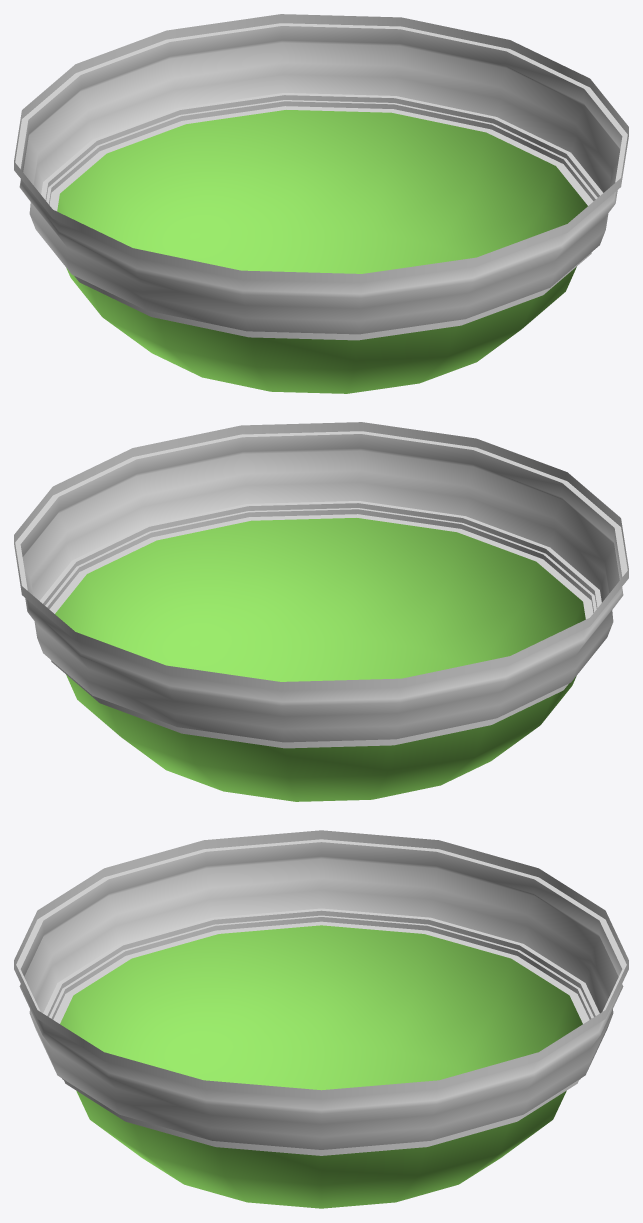
File: InteriorLight05.fbx
3 renders of one model, top to bottom at view 1: azimuth 30°, elevation 25°; view 2: azimuth 150°, elevation 25°; view 3: azimuth 270°, elevation 25°, orthographic.
Visible parts, largest first — view 1: Circle_004; view 2: Circle_004; view 3: Circle_004.
Part boxes in pixels (left/top/right/bottom): Circle_004: left=14, top=14, right=628, bottom=393; Circle_004: left=14, top=422, right=628, bottom=801; Circle_004: left=14, top=830, right=628, bottom=1208.
Bounding box in the file's own units: 47.47 × 20.26 × 47.47.
